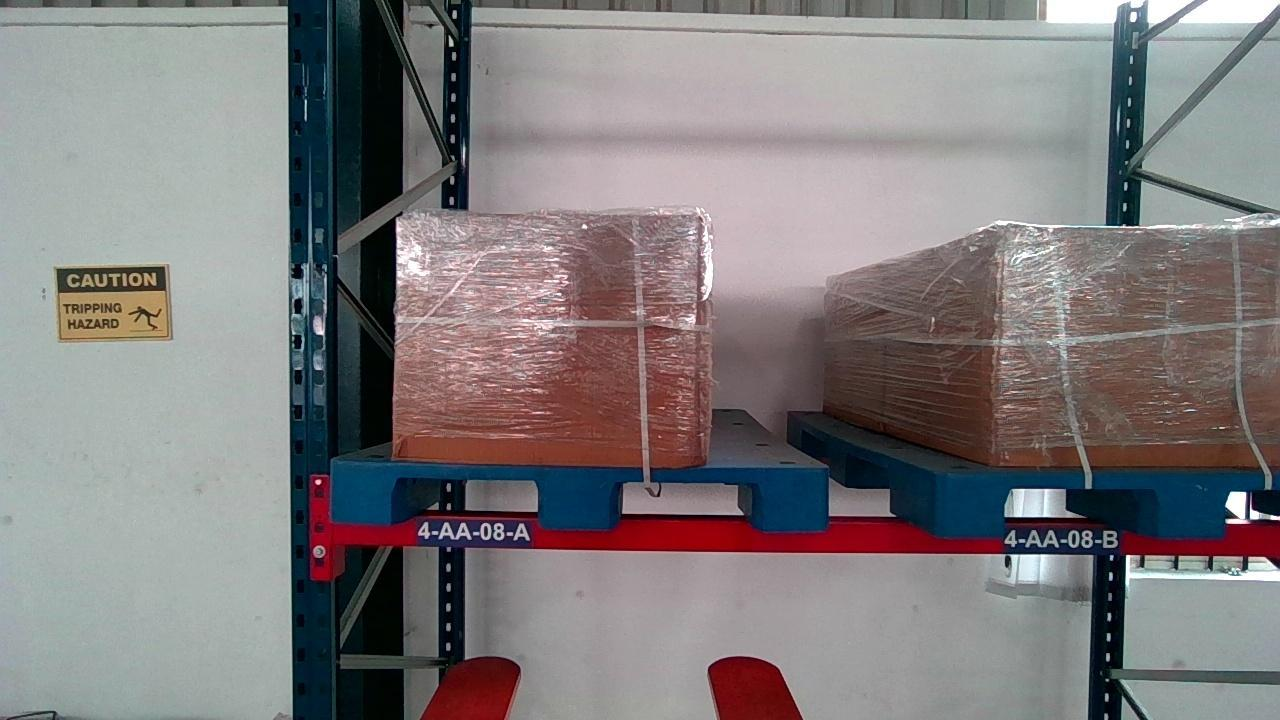h_rack: (328, 513, 1280, 556)
small_pallet: (333, 463, 828, 529), (940, 469, 1280, 535)
